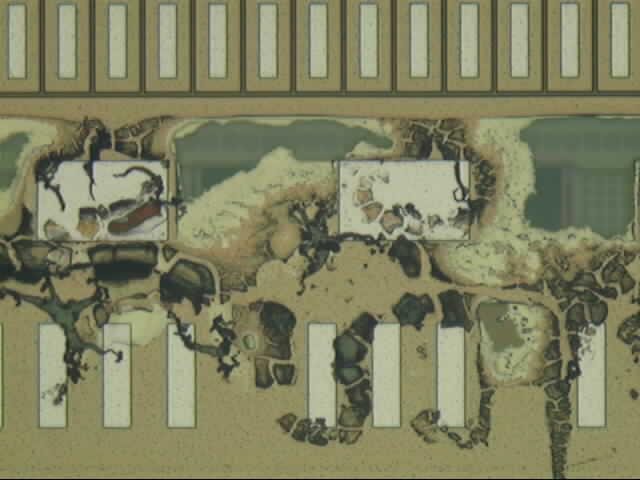COATING BAD: (1, 108, 640, 480)
